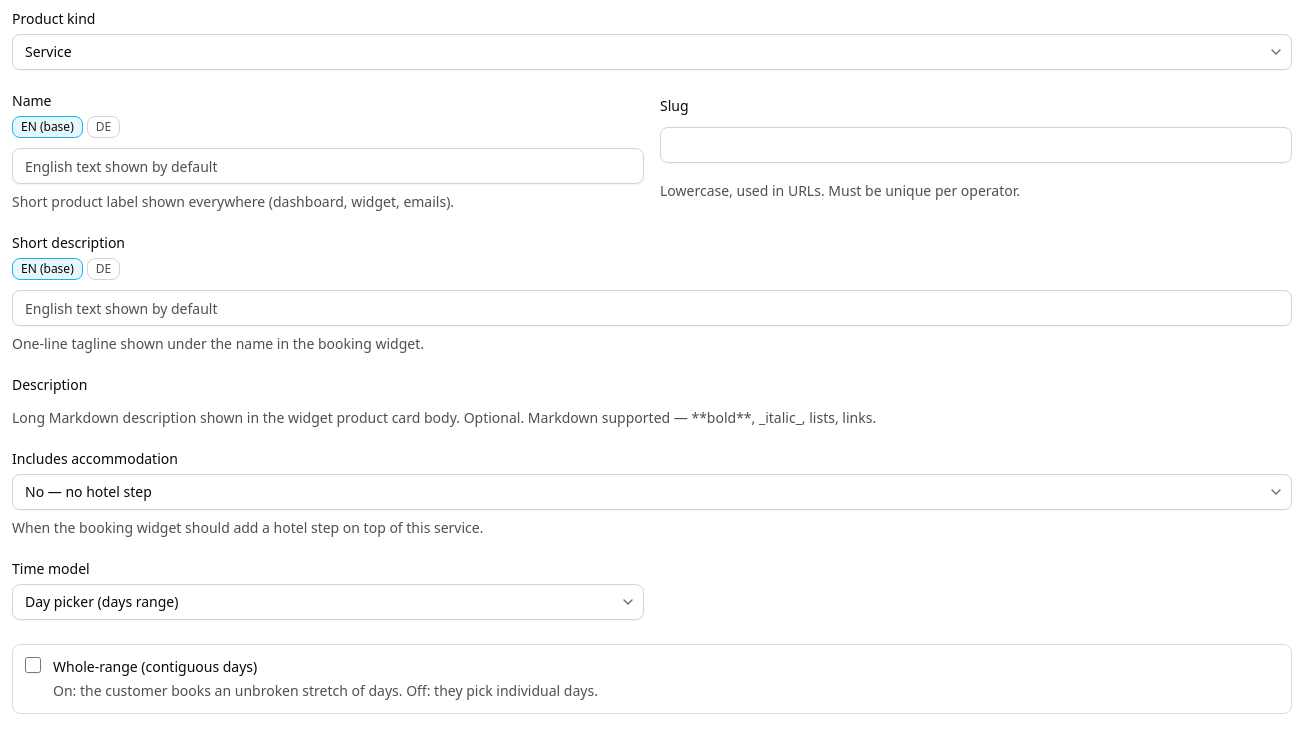
Test: ProductForm — kind/shape/contiguous progression › shows is_contiguous toggle only when shape=days_range
The width and height of the screenshot is (1304, 736).
Expected: the checkbox labelled "Whole-range (contiguous days)" is shown, [25,657,41,673]
// Switch to time_slot → toggle disappears, duration_minutes appears.
Select "Time slot" in the dropdown labelled "Time model". click: (328, 602)
box: [12,584,644,620]
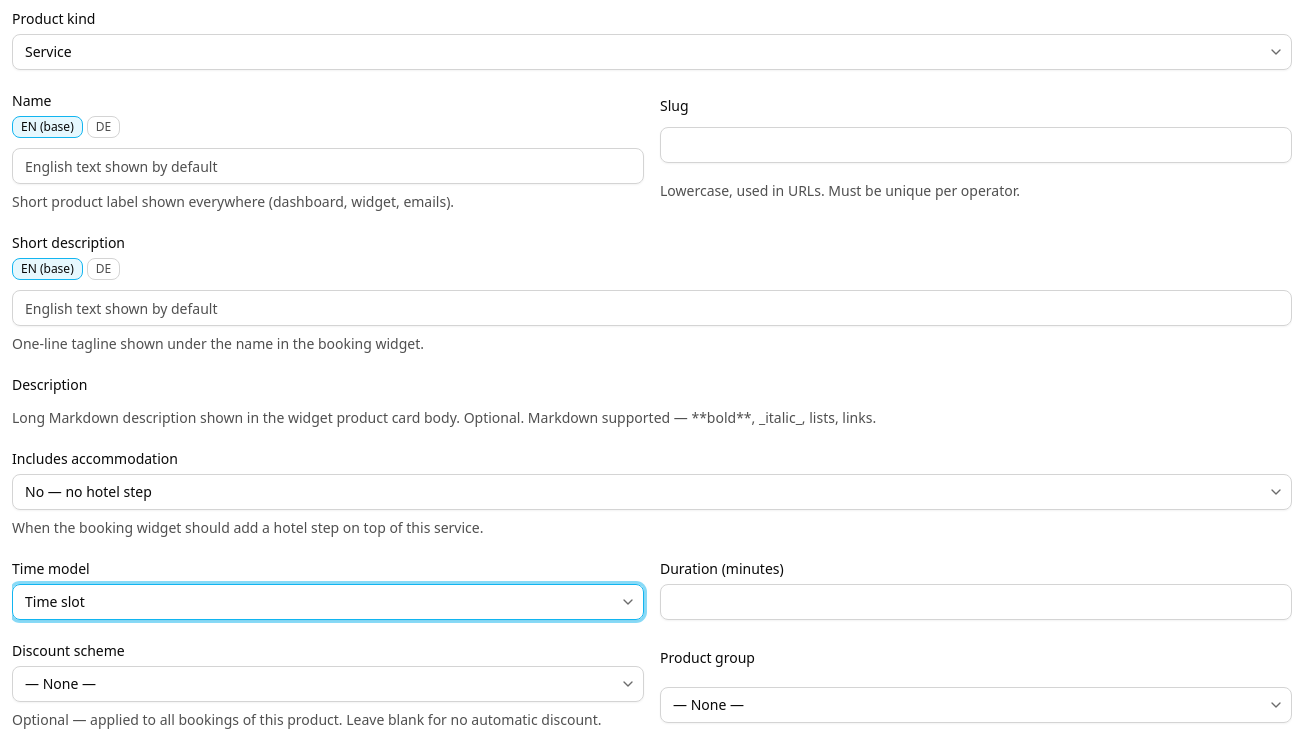
Expected: the label labelled "Whole-range (contiguous days)" is gone
Expected: the number field labelled "Duration (minutes)" is shown, [660,584,1292,620]
// Switch to fixed_window → date inputs appear.
Select "Course window (fixed date range)" in the dropdown labelled "Time model". click: (328, 602)
box: [12,584,644,620]
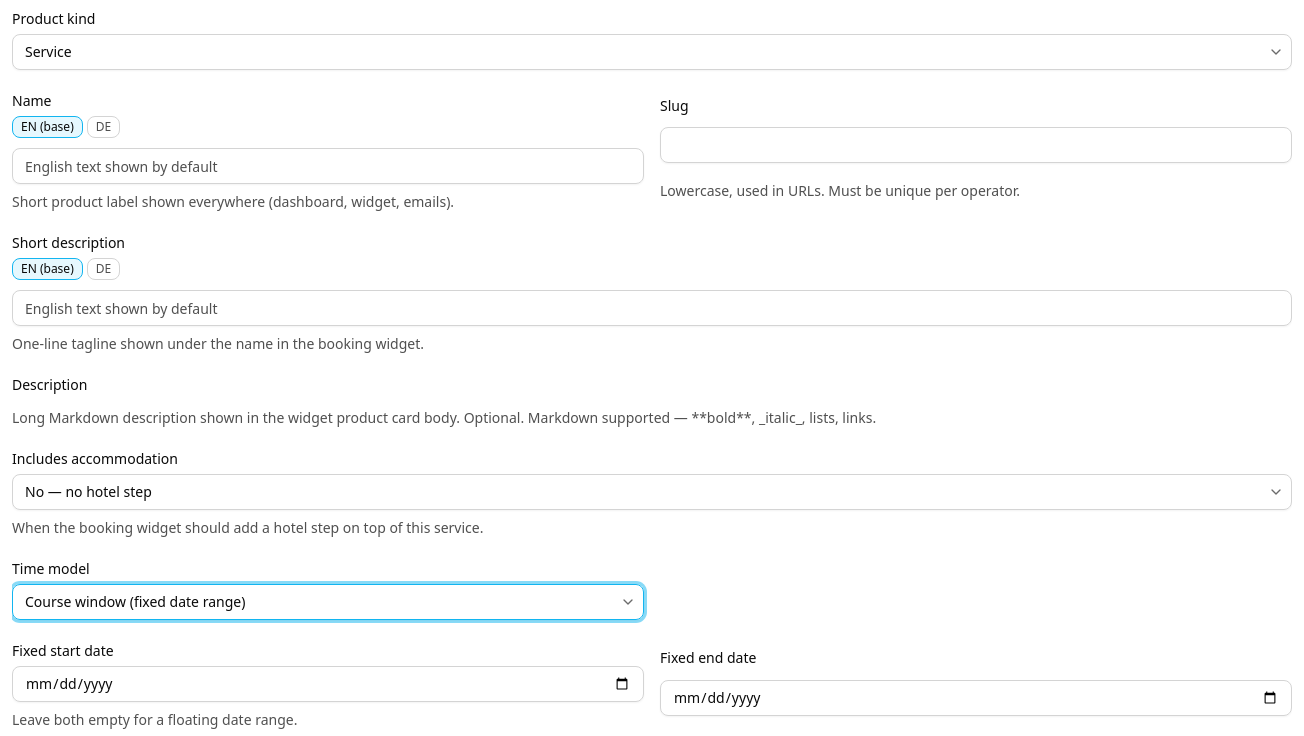
Expected: the date field labelled "Fixed start date" is shown, [12,666,644,702]
Expected: the date field labelled "Fixed end date" is shown, [660,680,1292,716]
// Switch to single_date → no extra inputs.
Select "Single date" in the dropdown labelled "Time model". click: (328, 602)
box: [12,584,644,620]
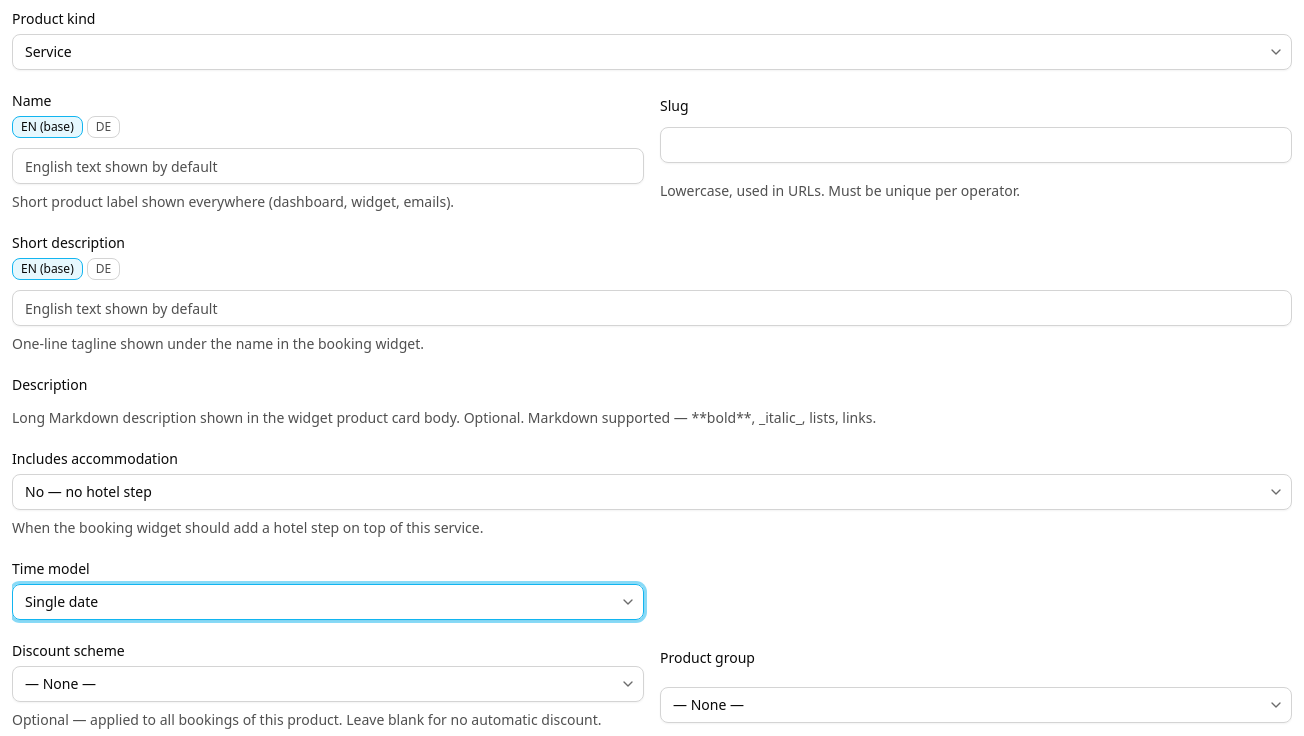
Expected: the label labelled "Duration (minutes)" is not shown
Expected: the label labelled "Fixed start date" is gone
